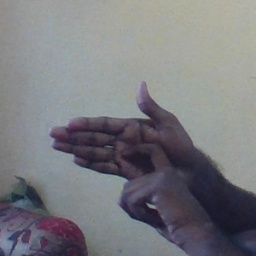R: (47, 78, 181, 215)
